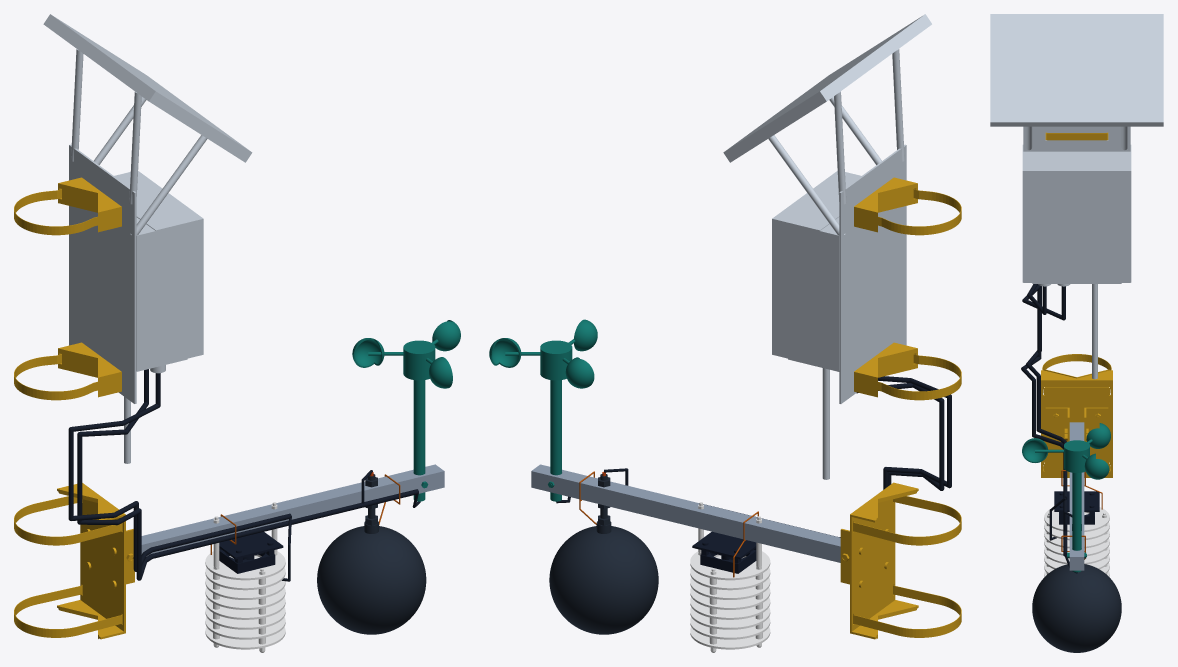
The picture shows the model from 3 angles, left to right: view 1: azimuth 30°, elevation 25°; view 2: azimuth 150°, elevation 25°; view 3: azimuth 270°, elevation 25°; orthographic projection. The views are drawn at different scales.
Visible parts, largest first — view 1: FieldNode core with sun shield (FND-DWG-001 envelope), Black globe, 150 mm, on its hanger tube, Arm clamp: saddle, cheeks and bands, Multi-plate radiation shield, Sensor harness, M12, FieldNode pole adapter, Sensor arm, Cup anemometer, Aspiration fan and cowl; view 2: FieldNode core with sun shield (FND-DWG-001 envelope), Black globe, 150 mm, on its hanger tube, Arm clamp: saddle, cheeks and bands, Sensor arm, Multi-plate radiation shield, FieldNode pole adapter, Cup anemometer, Sensor harness, M12, Aspiration fan and cowl; view 3: FieldNode core with sun shield (FND-DWG-001 envelope), Black globe, 150 mm, on its hanger tube, Arm clamp: saddle, cheeks and bands, Cup anemometer, Sensor harness, M12, Multi-plate radiation shield, Sensor arm, Aspiration fan and cowl, FieldNode pole adapter.
Boxes of the visible parts, bbox=[...] form: FieldNode core with sun shield (FND-DWG-001 envelope): bbox=[43, 14, 252, 463]; Black globe, 150 mm, on its hanger tube: bbox=[317, 474, 426, 634]; Arm clamp: saddle, cheeks and bands: bbox=[14, 483, 134, 639]; Multi-plate radiation shield: bbox=[205, 502, 285, 652]; Sensor harness, M12: bbox=[68, 369, 420, 581]; FieldNode pole adapter: bbox=[14, 177, 121, 400]; Sensor arm: bbox=[141, 464, 444, 556]; Cup anemometer: bbox=[352, 320, 460, 501]; Aspiration fan and cowl: bbox=[219, 532, 283, 573]; FieldNode core with sun shield (FND-DWG-001 envelope): bbox=[723, 14, 931, 479]; Black globe, 150 mm, on its hanger tube: bbox=[549, 474, 658, 634]; Arm clamp: saddle, cheeks and bands: bbox=[840, 482, 961, 639]; Sensor arm: bbox=[531, 464, 840, 562]; Multi-plate radiation shield: bbox=[690, 502, 770, 652]; FieldNode pole adapter: bbox=[854, 177, 961, 400]; Cup anemometer: bbox=[489, 319, 597, 501]; Sensor harness, M12: bbox=[556, 376, 951, 537]; Aspiration fan and cowl: bbox=[692, 531, 756, 573]; FieldNode core with sun shield (FND-DWG-001 envelope): bbox=[990, 14, 1163, 379]; Black globe, 150 mm, on its hanger tube: bbox=[1032, 524, 1121, 652]; Arm clamp: saddle, cheeks and bands: bbox=[1041, 354, 1112, 477]; Cup anemometer: bbox=[1022, 423, 1110, 572]; Sensor harness, M12: bbox=[1021, 284, 1077, 573]; Multi-plate radiation shield: bbox=[1044, 507, 1109, 576]; Sensor arm: bbox=[1069, 422, 1084, 570]; Aspiration fan and cowl: bbox=[1054, 491, 1099, 524]; FieldNode pole adapter: bbox=[1045, 132, 1108, 140].
Size of the model in its own units: 0.7164 by 0.9733 by 0.29.
